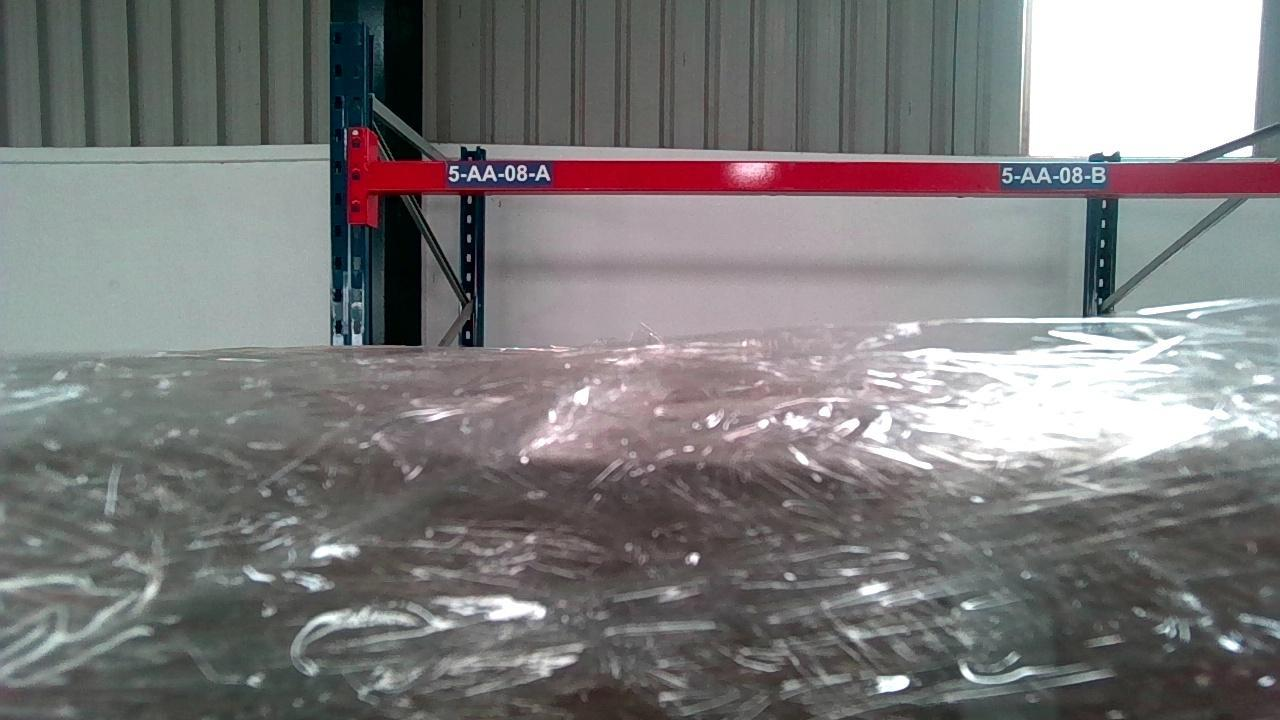h_rack: (371, 156, 1280, 193)
